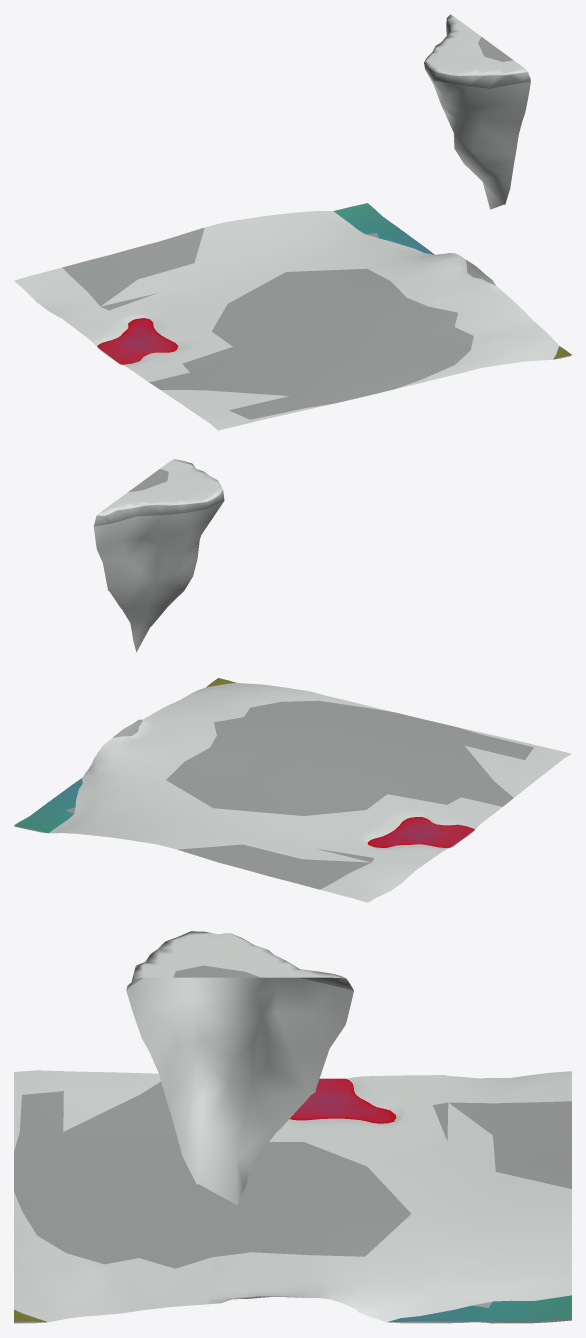
3 views of the same model, one above another, from view 1: azimuth 30°, elevation 25°; view 2: azimuth 150°, elevation 25°; view 3: azimuth 270°, elevation 25° (orthographic). The views are drawn at different scales.
Visible parts, largest first — view 1: G:\FFXIV-MapTools\exports\r2f1\bg\ex1\01_roc_r2\fld\r2f1\bgp (×8); view 2: G:\FFXIV-MapTools\exports\r2f1\bg\ex1\01_roc_r2\fld\r2f1\bgp (×8); view 3: G:\FFXIV-MapTools\exports\r2f1\bg\ex1\01_roc_r2\fld\r2f1\bgp (×8).
Boxes of the visible parts, bbox=[...] form: G:\FFXIV-MapTools\exports\r2f1\bg\ex1\01_roc_r2\fld\r2f1\bgp (×8): bbox=[14, 14, 571, 430]; G:\FFXIV-MapTools\exports\r2f1\bg\ex1\01_roc_r2\fld\r2f1\bgp (×8): bbox=[14, 459, 571, 902]; G:\FFXIV-MapTools\exports\r2f1\bg\ex1\01_roc_r2\fld\r2f1\bgp (×8): bbox=[14, 931, 571, 1322].
Size of the model in its own units: 128 by 87.5 by 128.
